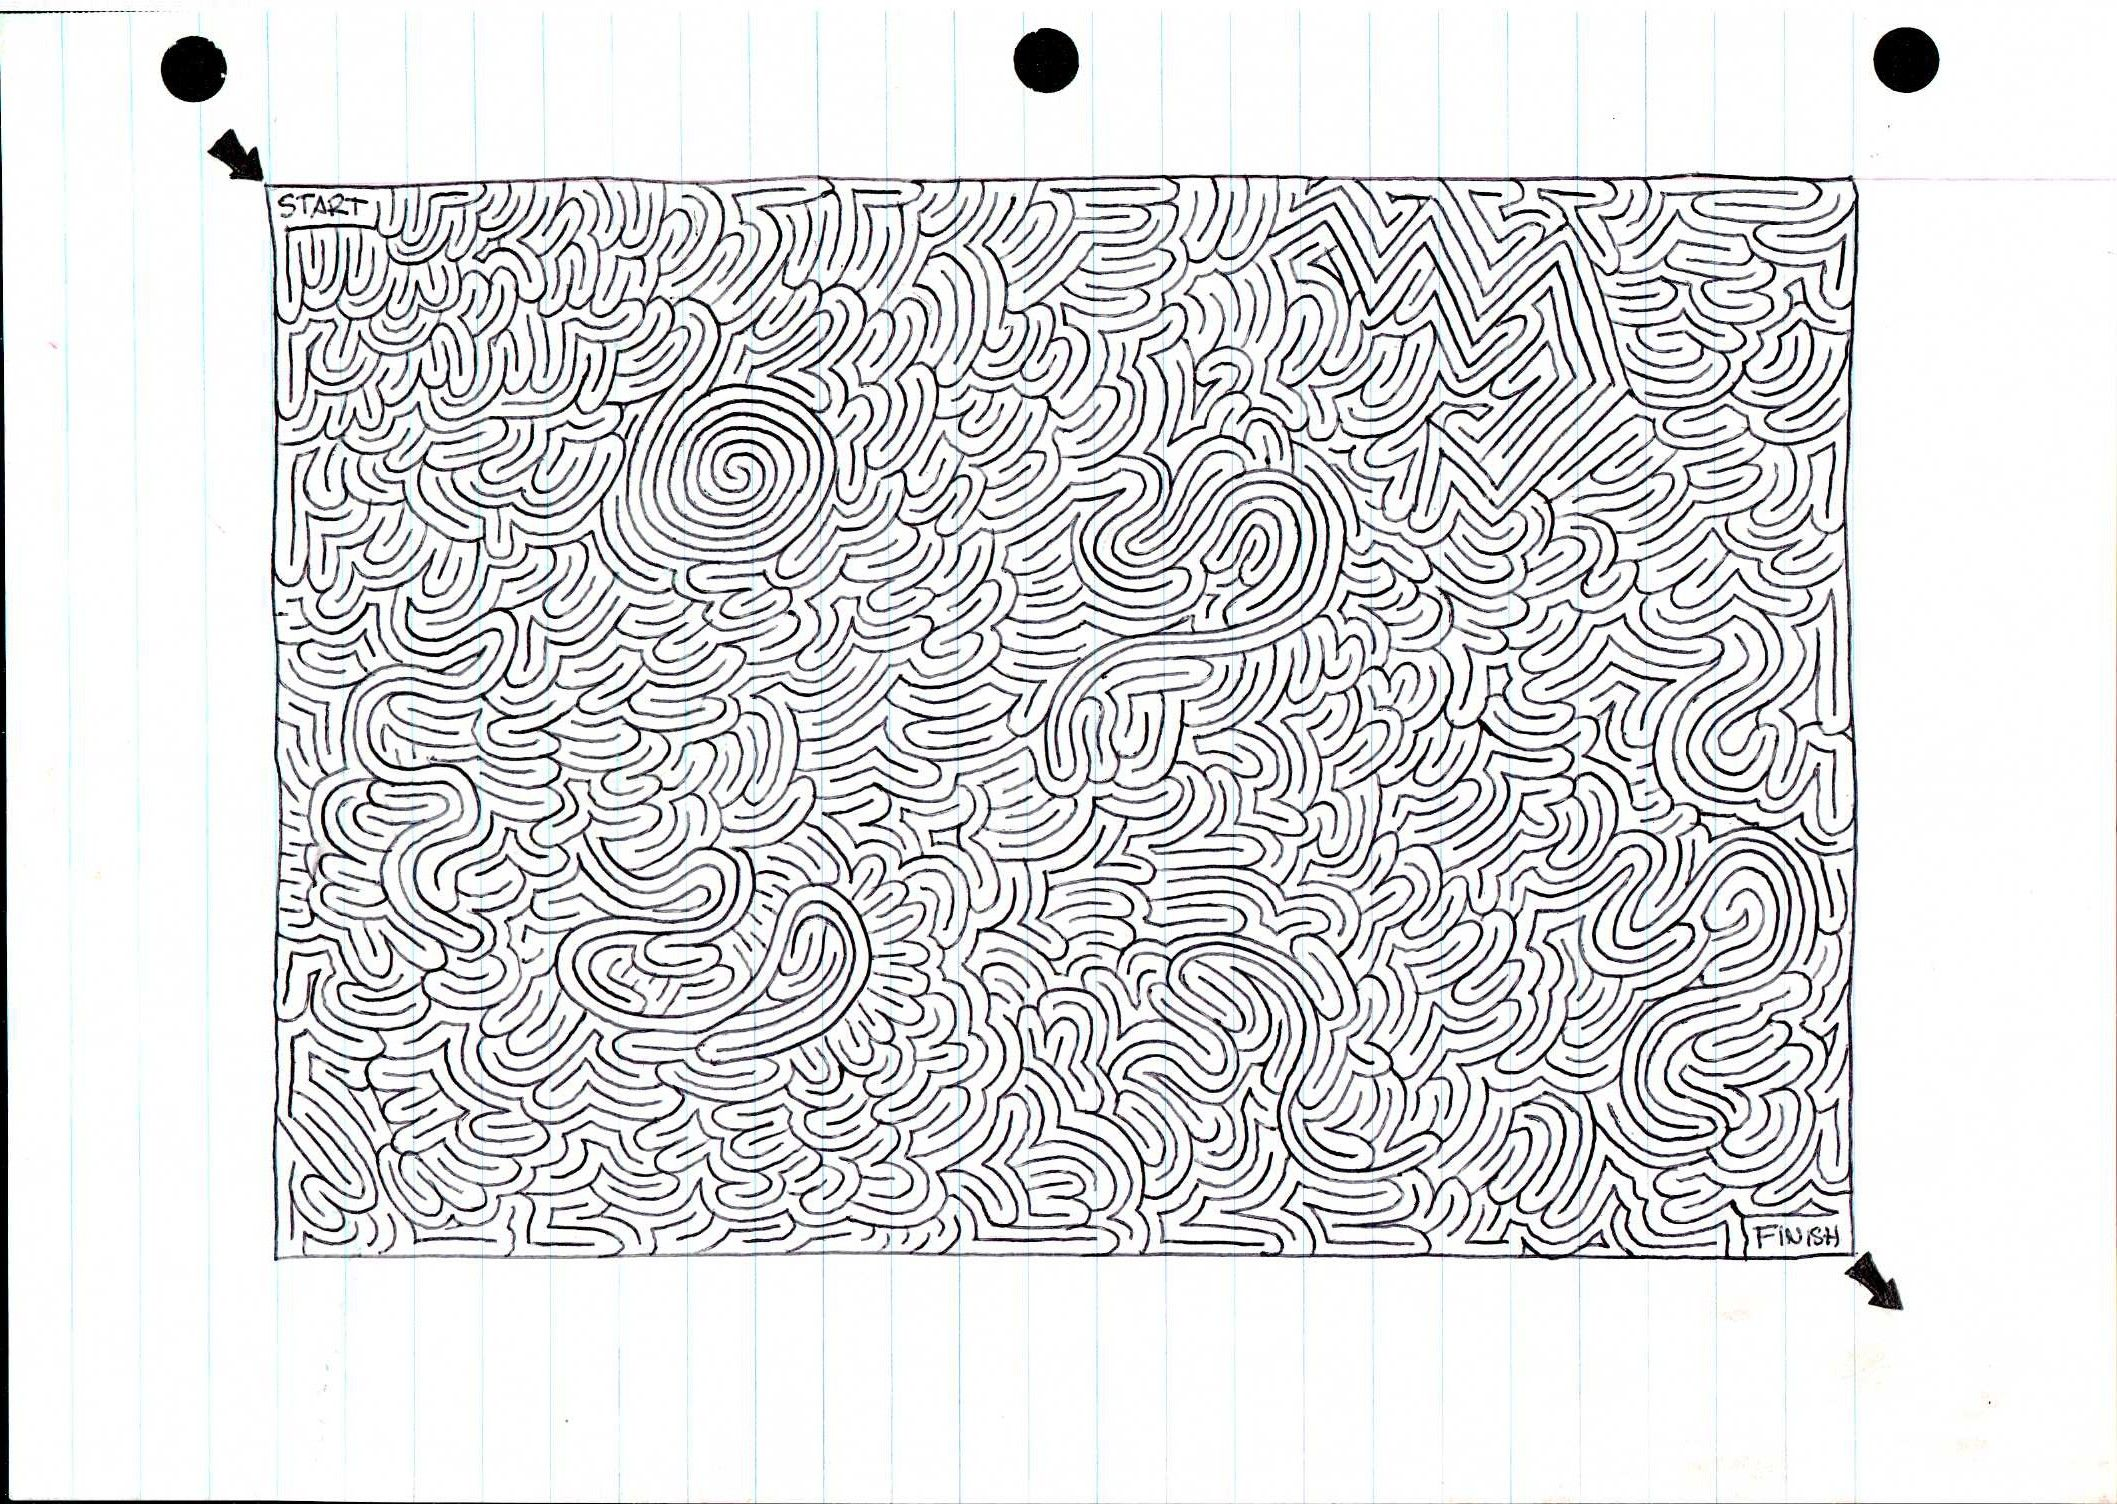maze: (203, 137, 1909, 1314)
